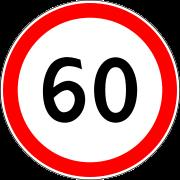Speed Limit -60-: (23, 30, 154, 154)
